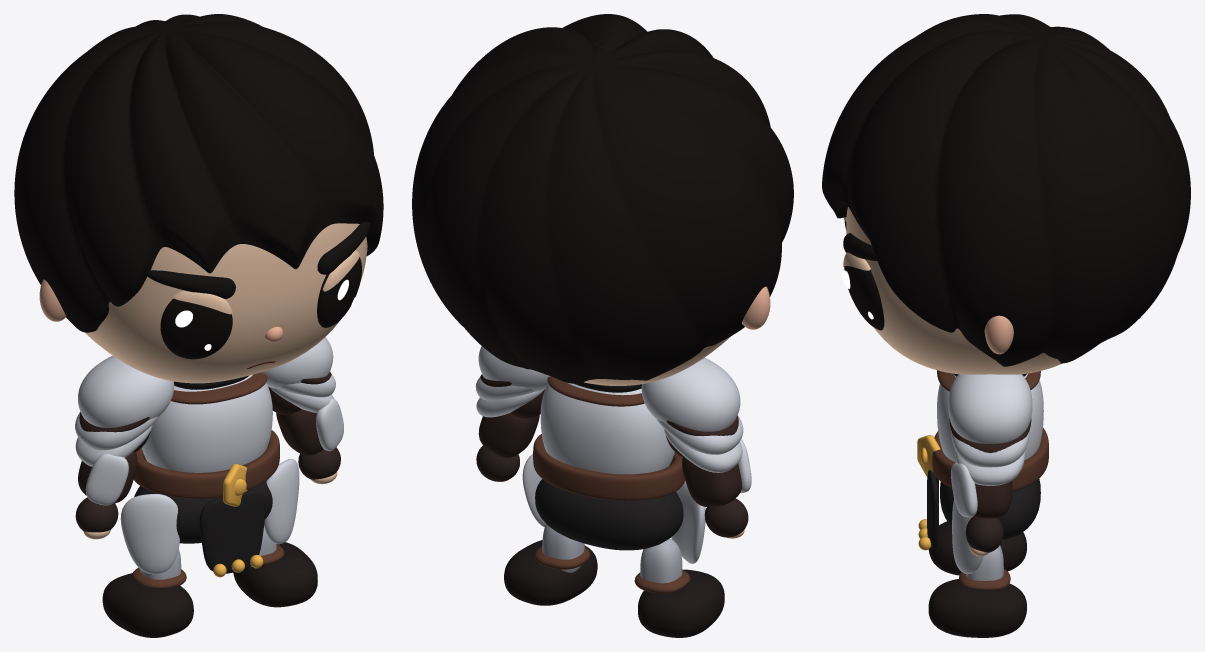
The model's file is chibi_knight.glb.
The picture shows the model from 3 angles, left to right: view 1: azimuth 30°, elevation 25°; view 2: azimuth 150°, elevation 25°; view 3: azimuth 270°, elevation 25°; orthographic projection. The views are drawn at different scales.
Parts seen in each view (by area): view 1: CK_Hair, CK_Head, CK_Torso, CK_Pauldron_L, CK_Boot_L, CK_Apron, CK_Tasset_L, CK_Belt, CK_Boot_R, CK_Eye_L, CK_Tasset_R, CK_Pauldron_R (+20 smaller); view 2: CK_Hair, CK_Torso, CK_Pelvis, CK_Pauldron_L, CK_Belt, CK_Boot_L, CK_Boot_R, CK_Vambrace_R, CK_Vambrace_L, CK_Tasset_L, CK_Greave_L, CK_Pauldron_R (+13 smaller); view 3: CK_Hair, CK_Head, CK_Pauldron_R, CK_Boot_R, CK_Pelvis, CK_Torso, CK_Boot_L, CK_Belt, CK_Eye_R, CK_Lame1_R, CK_Tasset_R, CK_Vambrace_R (+10 smaller).
Part boxes in pixels (<box>): CK_Hair: <box>14,14,383,332</box>; CK_Head: <box>85,223,367,383</box>; CK_Torso: <box>142,374,272,472</box>; CK_Pauldron_L: <box>78,355,174,427</box>; CK_Boot_L: <box>102,573,193,637</box>; CK_Apron: <box>199,490,265,573</box>; CK_Tasset_L: <box>120,494,179,574</box>; CK_Belt: <box>134,430,279,498</box>; CK_Boot_R: <box>233,542,317,607</box>; CK_Eye_L: <box>160,298,232,359</box>; CK_Tasset_R: <box>264,458,299,544</box>; CK_Pauldron_R: <box>261,337,333,388</box>; CK_Hair: <box>412,14,793,383</box>; CK_Torso: <box>540,382,674,474</box>; CK_Pelvis: <box>535,479,683,550</box>; CK_Pauldron_L: <box>641,357,740,431</box>; CK_Belt: <box>533,434,685,500</box>; CK_Boot_L: <box>638,569,724,637</box>; CK_Boot_R: <box>504,540,597,605</box>; CK_Vambrace_R: <box>478,413,539,457</box>; CK_Vambrace_L: <box>682,457,741,507</box>; CK_Tasset_L: <box>671,480,705,563</box>; CK_Greave_L: <box>640,538,682,590</box>; CK_Pauldron_R: <box>478,346,549,391</box>; CK_Hair: <box>822,14,1190,366</box>; CK_Head: <box>846,207,1062,374</box>; CK_Pauldron_R: <box>948,374,1032,443</box>; CK_Boot_R: <box>928,579,1026,637</box>; CK_Pelvis: <box>940,479,1040,539</box>; CK_Torso: <box>937,373,1043,462</box>; CK_Boot_L: <box>928,521,1026,575</box>; CK_Belt: <box>932,427,1048,491</box>; CK_Eye_R: <box>844,266,884,330</box>; CK_Lame1_R: <box>951,430,1029,467</box>; CK_Tasset_R: <box>952,499,983,574</box>; CK_Vambrace_R: <box>973,481,1012,518</box>.
Size of the model in its own units: 1.32 by 2.23 by 1.31.
